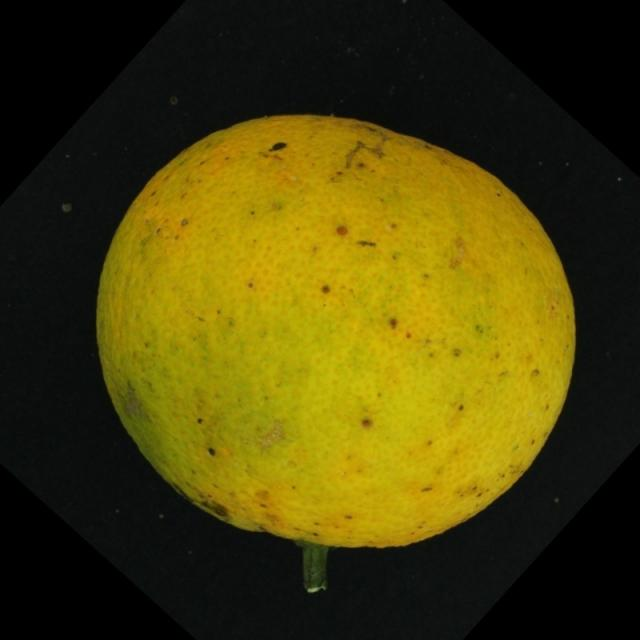grenning: (76, 82, 592, 600)
